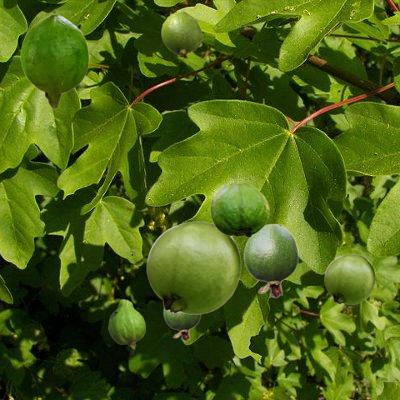guava: (146, 221, 240, 313), (20, 14, 88, 108), (243, 223, 298, 297), (210, 182, 268, 236), (324, 254, 374, 303), (108, 299, 144, 353), (161, 11, 201, 57), (163, 309, 200, 340)
